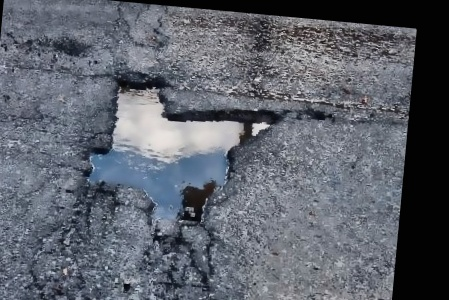pothole: (76, 68, 286, 240)
